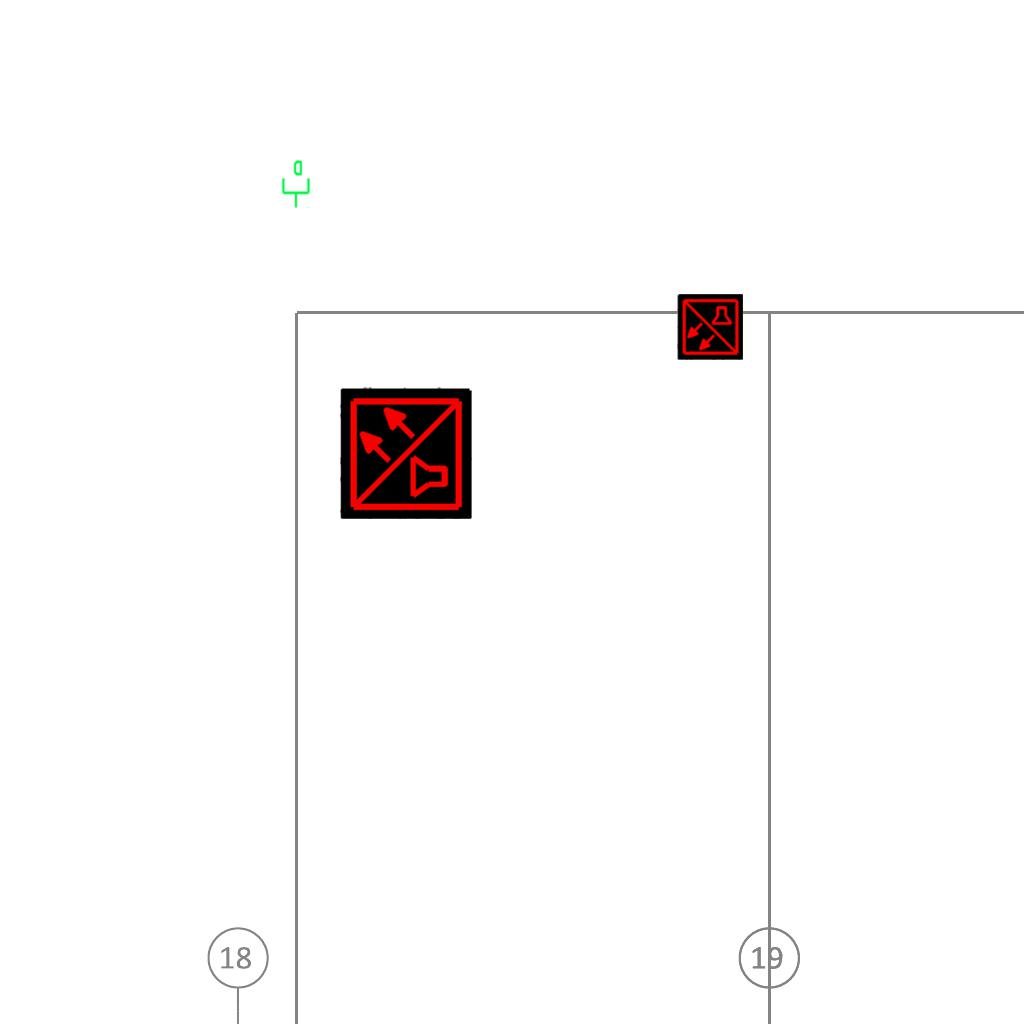Datenanschluss_einfach: (278, 159, 312, 209)
OKW_Multisensormelder_(Kombination_optischer_Rauch-Kahlenmonoxid_Waerme-Melder): (340, 387, 472, 519), (677, 294, 743, 360)
